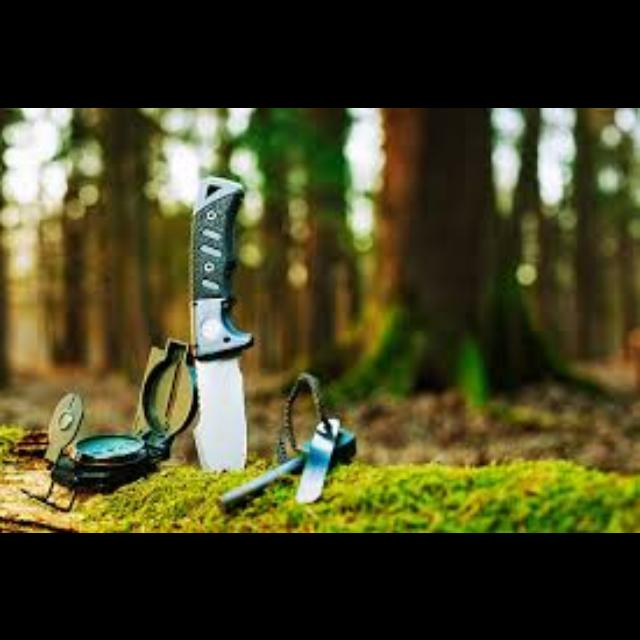knife: (188, 174, 254, 472)
